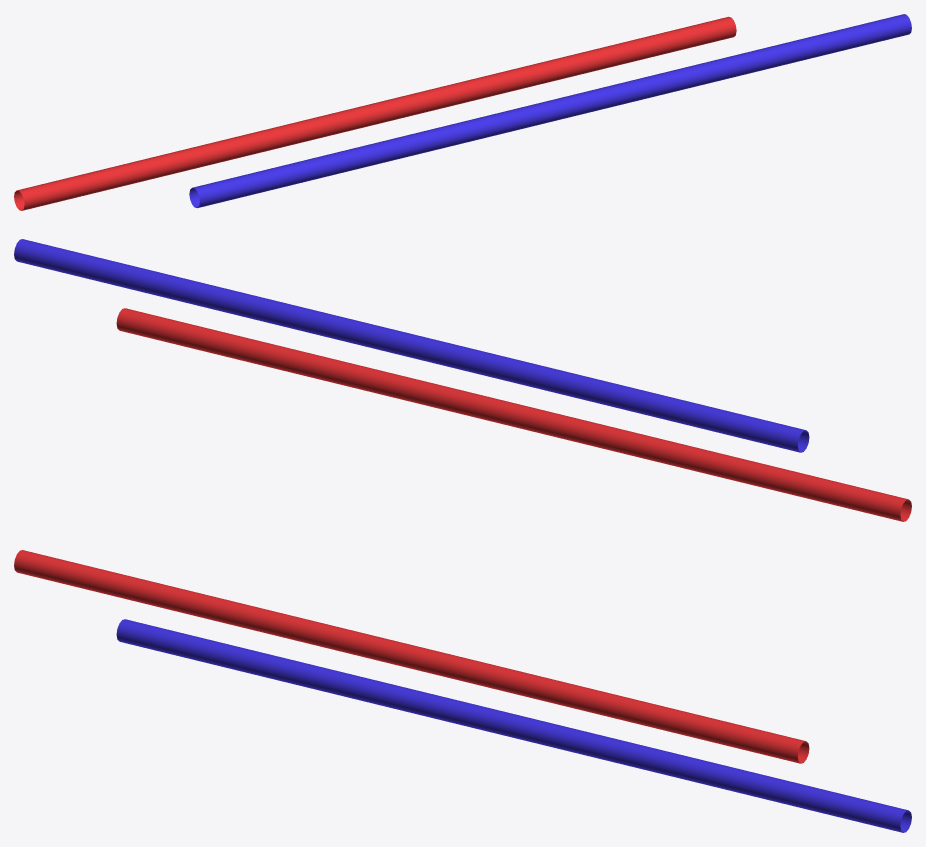
File: SquareKnotState1.dae
3 views of the same model, one above another, from view 1: azimuth 30°, elevation 25°; view 2: azimuth 150°, elevation 25°; view 3: azimuth 330°, elevation 25° (orthographic). The views are drawn at different scales.
Visible parts, largest first — view 1: BezierCurve.003, BezierCurve.002; view 2: BezierCurve.003, BezierCurve.002; view 3: BezierCurve.003, BezierCurve.002.
Boxes of the visible parts, box(x1,y1,x2,y2) form: BezierCurve.003: box(14, 16, 736, 210); BezierCurve.002: box(189, 14, 911, 208); BezierCurve.003: box(116, 308, 911, 521); BezierCurve.002: box(14, 239, 809, 452); BezierCurve.003: box(14, 550, 809, 763); BezierCurve.002: box(116, 619, 911, 832).
Size of the model in its own units: 0.9244 by 0.0978 by 0.02.
